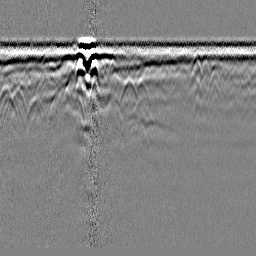cavity: (118, 73, 139, 103)
